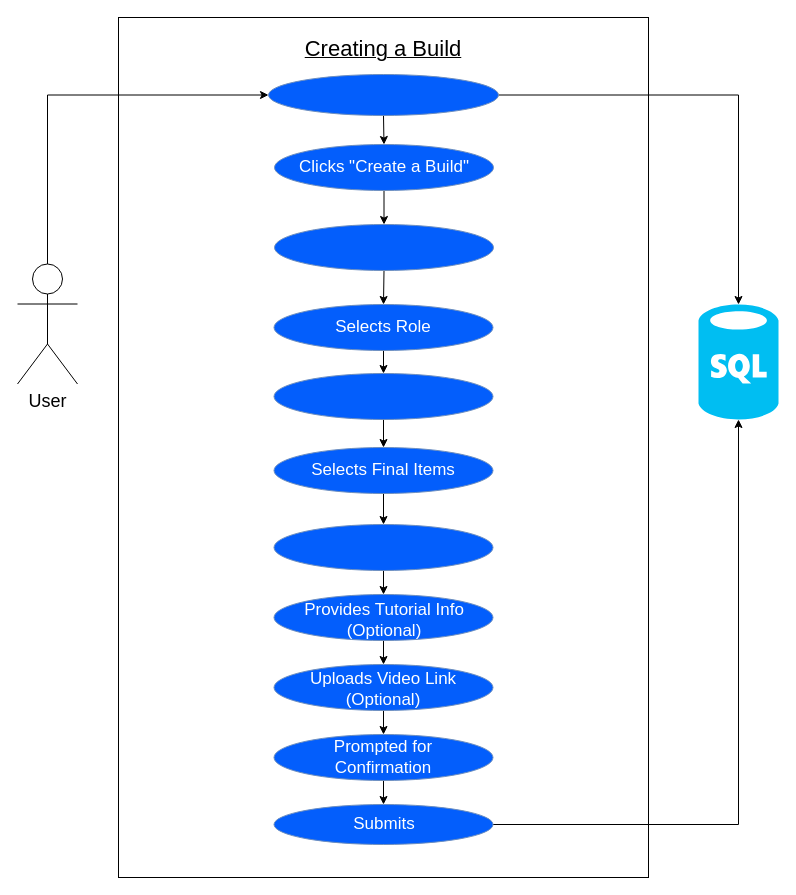
The diagram is 796 pixels wide and 895 high, and some of its shapes have lost their labels. The box of each missing label's shape, as (x1, y1, x2, y2) in pixels:
Provides Description (Optional): (273, 524, 493, 570)
Selects Champion: (274, 224, 494, 270)
Selects Runes for Rune Pages: (273, 372, 493, 420)
Signs In: (268, 74, 498, 116)
